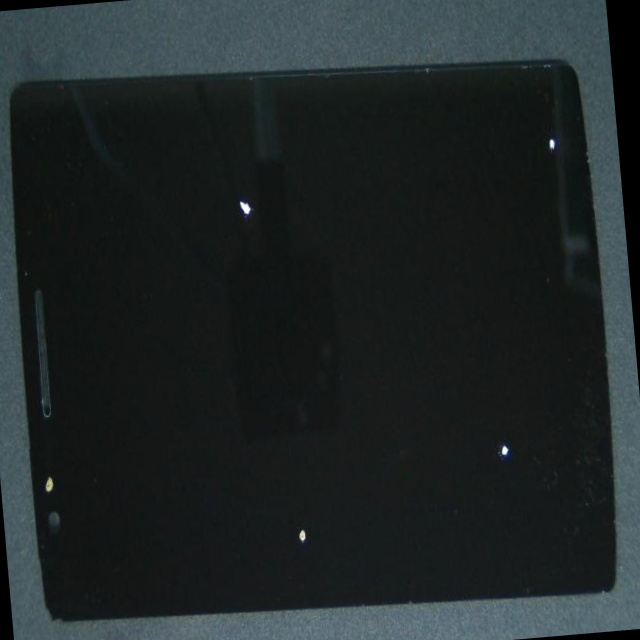stain: (256, 161, 640, 640), (116, 259, 456, 640), (246, 34, 626, 271), (67, 85, 370, 357), (17, 282, 115, 640)
